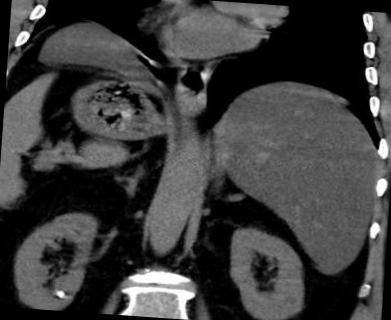Tas_Var: (56, 288, 66, 300)
